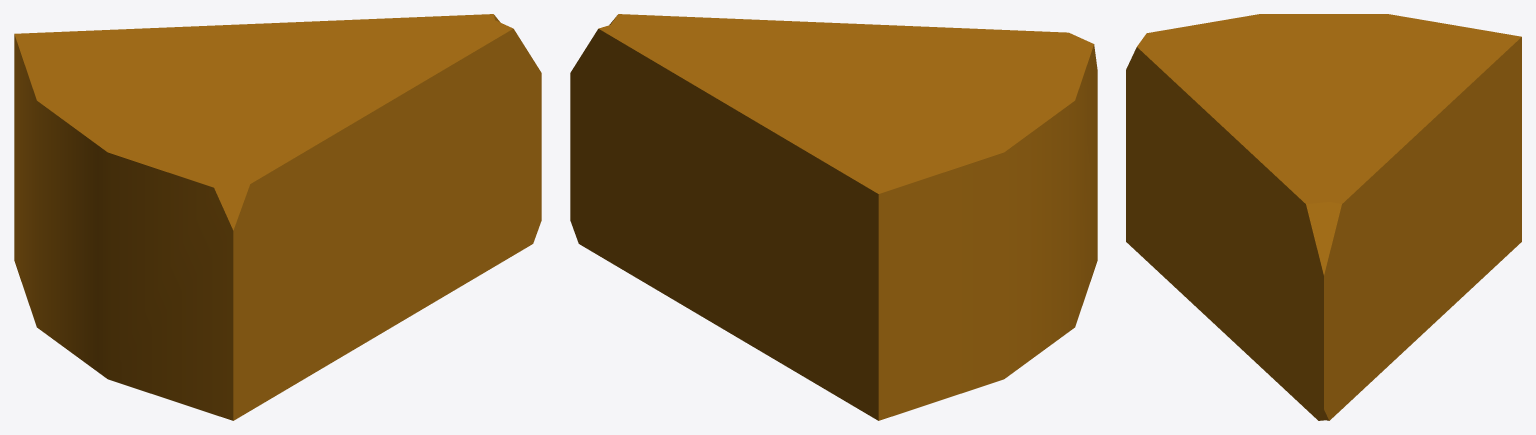
File: Cheese.FBX
The picture shows the model from 3 angles, left to right: view 1: azimuth 30°, elevation 25°; view 2: azimuth 150°, elevation 25°; view 3: azimuth 270°, elevation 25°; orthographic projection. The views are drawn at different scales.
Visible parts, largest first — view 1: Food_Cheese_01; view 2: Food_Cheese_01; view 3: Food_Cheese_01.
Part boxes in pixels (x1,y1,x2,y2): Food_Cheese_01: (14, 14, 541, 420); Food_Cheese_01: (570, 14, 1097, 420); Food_Cheese_01: (1126, 14, 1521, 420).
Size of the model in its own units: 7.41 by 5.99 by 3.42.
